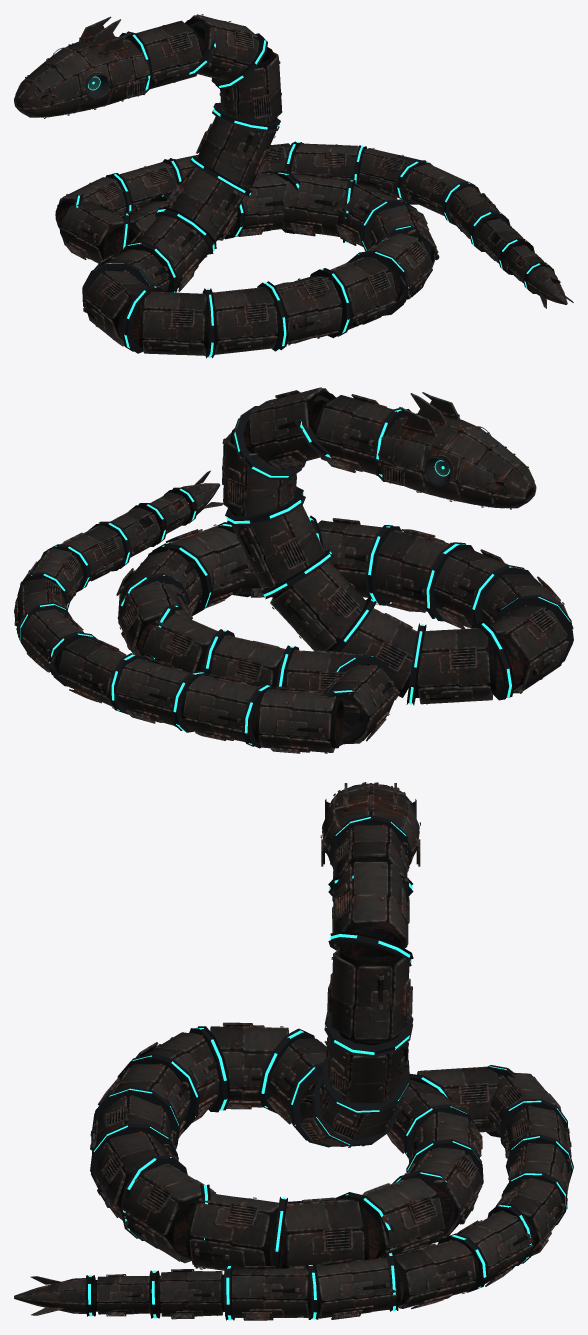
The model's file is snake-sectional-r2.glb.
3 views of the same model, one above another, from view 1: azimuth 30°, elevation 25°; view 2: azimuth 150°, elevation 25°; view 3: azimuth 270°, elevation 25° (orthographic). The views are drawn at different scales.
Visible parts, largest first — view 1: Head, Segment_08, Segment_09, Segment_03, Tail, Segment_10, Segment_04, Segment_15, Segment_00, Segment_11, Segment_02, Segment_07 (+30 smaller); view 2: Head, Segment_06, Segment_20, Segment_04, Segment_01, Segment_03, Segment_07, Segment_00, Segment_10, Segment_21, Tail, Segment_02 (+42 smaller); view 3: Tail, Segment_02, Segment_13, Segment_01, Segment_14, Segment_12, Segment_15, Segment_25, Segment_26, Segment_27, Segment_07, Head (+34 smaller).
Part boxes in pixels (x1,y1,x2,y2): Head: (14,16,150,118); Segment_08: (139,291,208,355); Segment_09: (213,287,279,354); Segment_03: (196,108,276,187); Tail: (477,218,573,308); Segment_10: (275,276,342,345); Segment_04: (164,165,244,241); Segment_15: (281,172,347,236); Segment_00: (120,20,203,89); Segment_11: (330,257,397,329); Segment_02: (219,47,282,124); Segment_07: (83,270,146,346); Head: (376,392,536,509); Segment_06: (412,628,497,704); Segment_20: (254,686,343,753); Segment_04: (270,561,366,651); Segment_01: (247,387,336,470); Segment_03: (231,494,325,588); Segment_07: (490,606,569,693); Segment_00: (314,394,411,475); Segment_10: (375,529,451,612); Segment_21: (181,673,260,742); Tail: (111,470,223,557); Segment_02: (222,422,296,517); Tail: (14,1269,224,1319); Segment_02: (327,938,412,1043); Segment_13: (186,1191,281,1270); Segment_01: (332,859,409,961); Segment_14: (271,1197,369,1268); Segment_12: (122,1163,215,1263); Segment_15: (362,1178,445,1259); Segment_25: (395,1239,478,1309); Segment_26: (316,1257,401,1319); Segment_27: (230,1266,310,1320); Segment_07: (210,1022,288,1109); Head: (320,782,420,868).
Bounding box in the file's own units: 7.75 × 4.66 × 6.75.
Materials: 9 (3 with a texture image).
